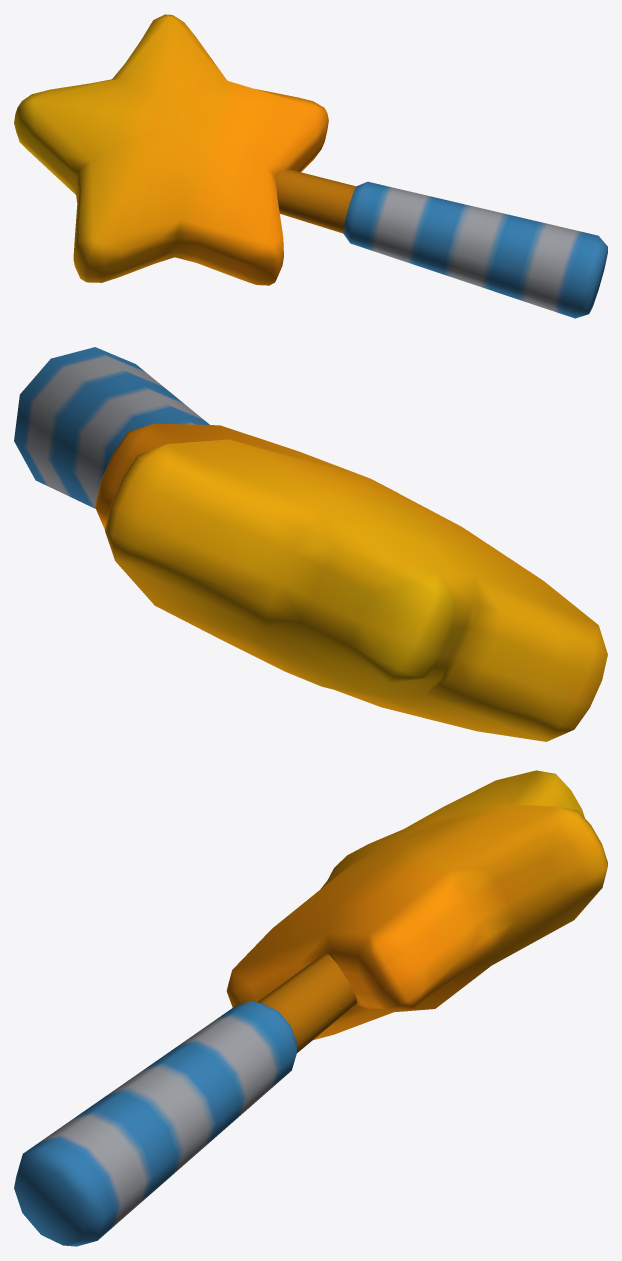
Rendered from UnitIconStick.glb.
The picture shows the model from 3 angles, top to bottom: view 1: azimuth 30°, elevation 25°; view 2: azimuth 150°, elevation 25°; view 3: azimuth 270°, elevation 25°; orthographic projection. The views are drawn at different scales.
Parts seen in each view (by area): view 1: star__mBody; view 2: star__mBody; view 3: star__mBody.
Boxes of the visible parts, box(x1,y1,x2,y2) form: star__mBody: box(14, 14, 607, 318); star__mBody: box(14, 347, 607, 741); star__mBody: box(14, 770, 607, 1246).
Bounding box in the file's own units: 4.65 × 2.27 × 4.22.
1 material, 1 textured.
